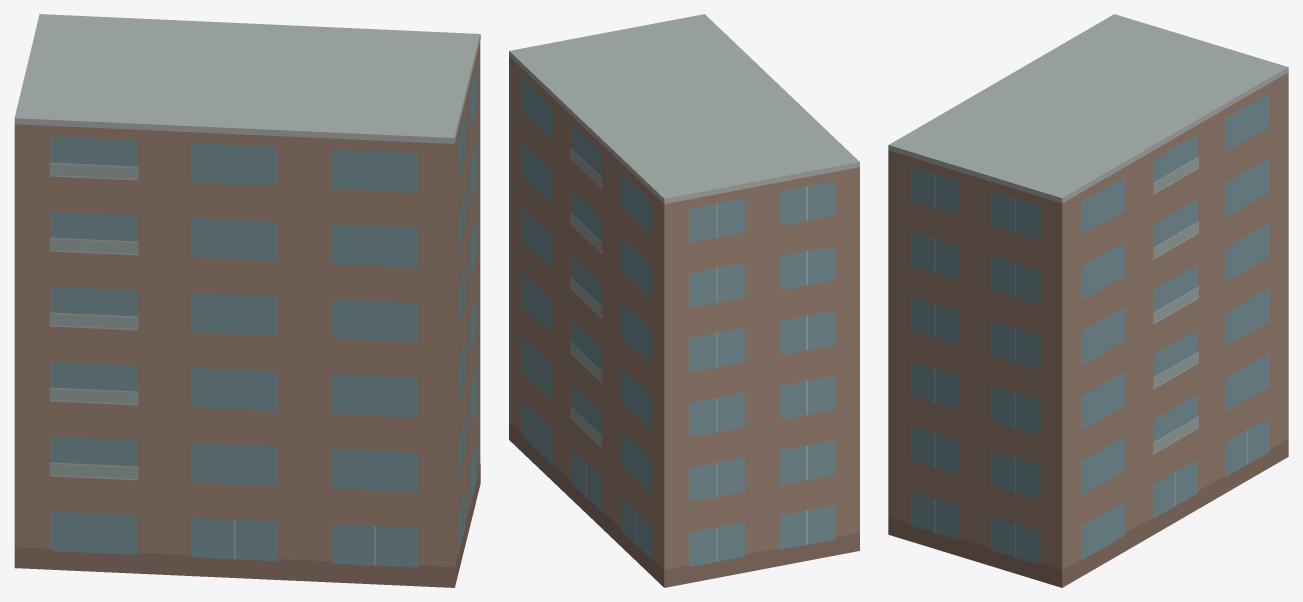
The model's file is survey-upis-33030343.glb.
The picture shows the model from 3 angles, left to right: view 1: azimuth 30°, elevation 25°; view 2: azimuth 150°, elevation 25°; view 3: azimuth 270°, elevation 25°; orthographic projection. The views are drawn at different scales.
Parts seen in each view (by area): view 1: survey-upis-33030343.tmp; view 2: survey-upis-33030343.tmp; view 3: survey-upis-33030343.tmp.
Boxes of the visible parts, <box> form: survey-upis-33030343.tmp: <box>14,14,480,587</box>; survey-upis-33030343.tmp: <box>509,14,859,587</box>; survey-upis-33030343.tmp: <box>888,14,1288,587</box>.
Bounding box in the file's own units: 18.56 × 18.3 × 17.03.
